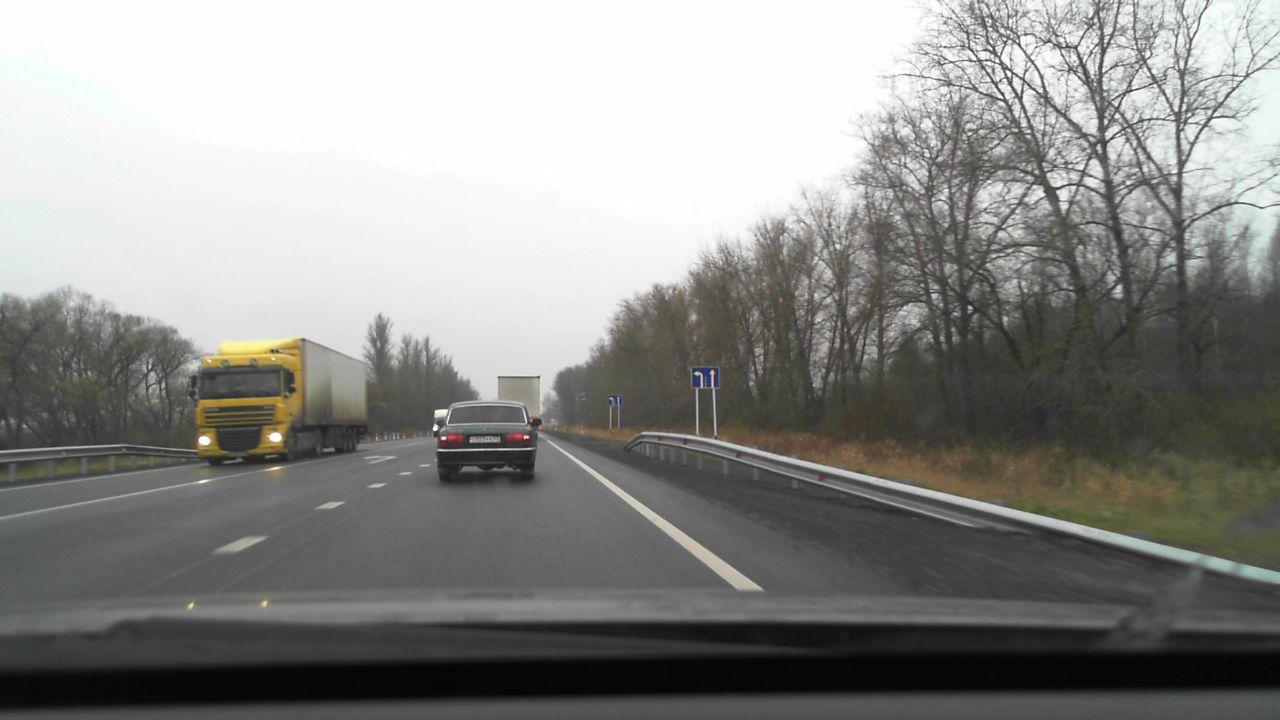5_15_1: (690, 366, 719, 389), (608, 395, 621, 405)
